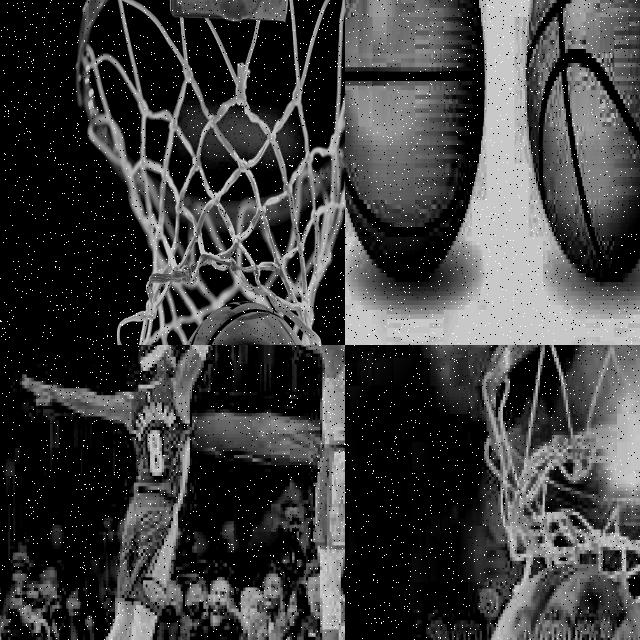Basketball: (345, 0, 484, 280), (489, 568, 640, 640)
